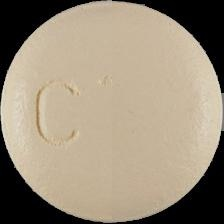65597-112: (0, 0, 224, 224)
